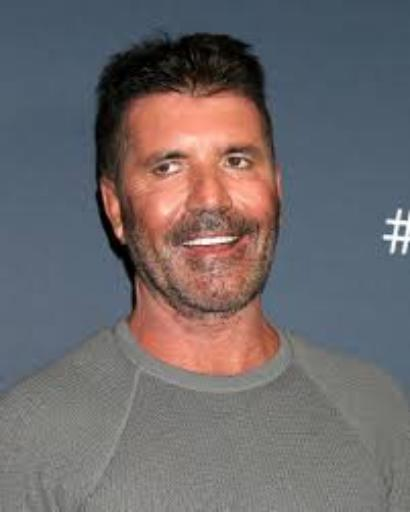left_eye: (222, 156, 259, 174)
left_lip_corner: (232, 230, 256, 246)
right_eye: (149, 162, 187, 180)
right_lip_corner: (175, 238, 194, 254)
